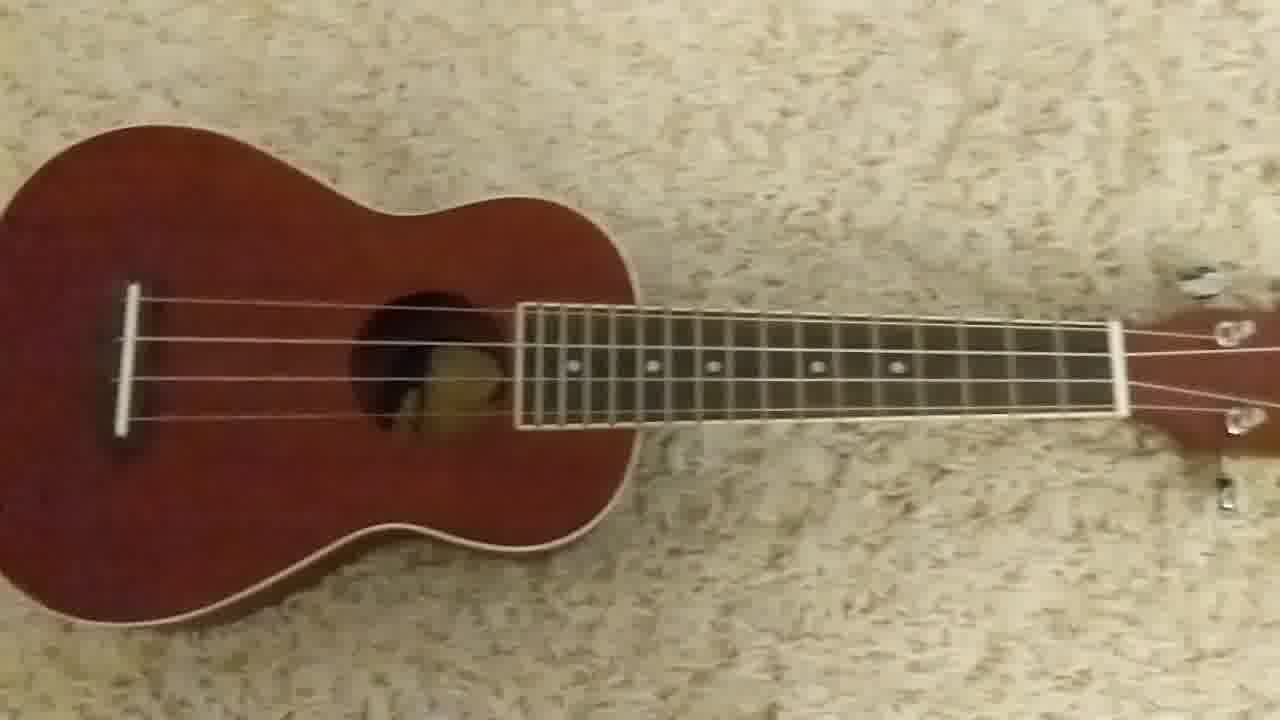Body: (1, 121, 647, 629)
Bridge: (104, 280, 157, 446)
Headstock: (1123, 252, 1280, 516)
